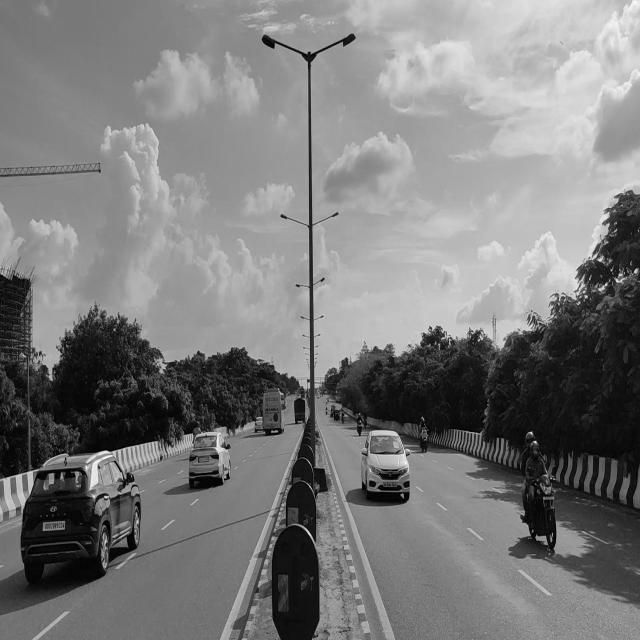bike: (521, 471, 563, 548)
bus: (263, 388, 284, 434)
car: (21, 448, 143, 590), (360, 428, 408, 504), (185, 430, 233, 489)
license-plate: (38, 518, 66, 534)
